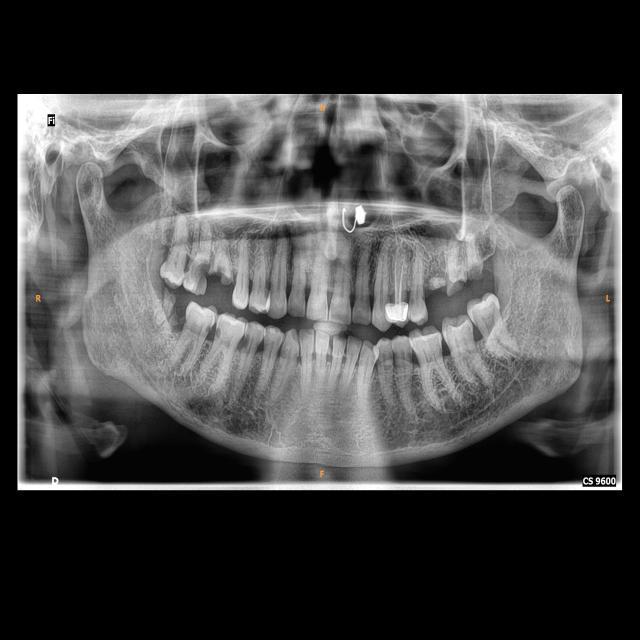dentin-curugu: (187, 255, 210, 291), (209, 259, 233, 292), (446, 276, 469, 298), (239, 331, 254, 358), (212, 323, 224, 346)
kanal-tedavisi: (388, 258, 406, 302)
kaplama: (384, 300, 410, 324)
